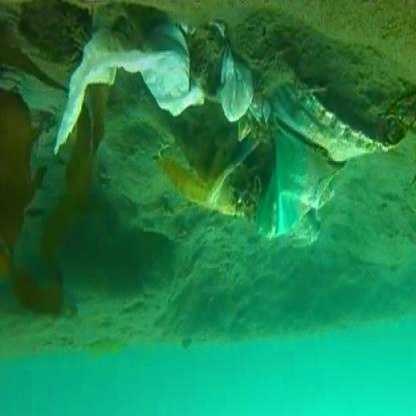plastic: (227, 66, 372, 256), (56, 34, 242, 146)
